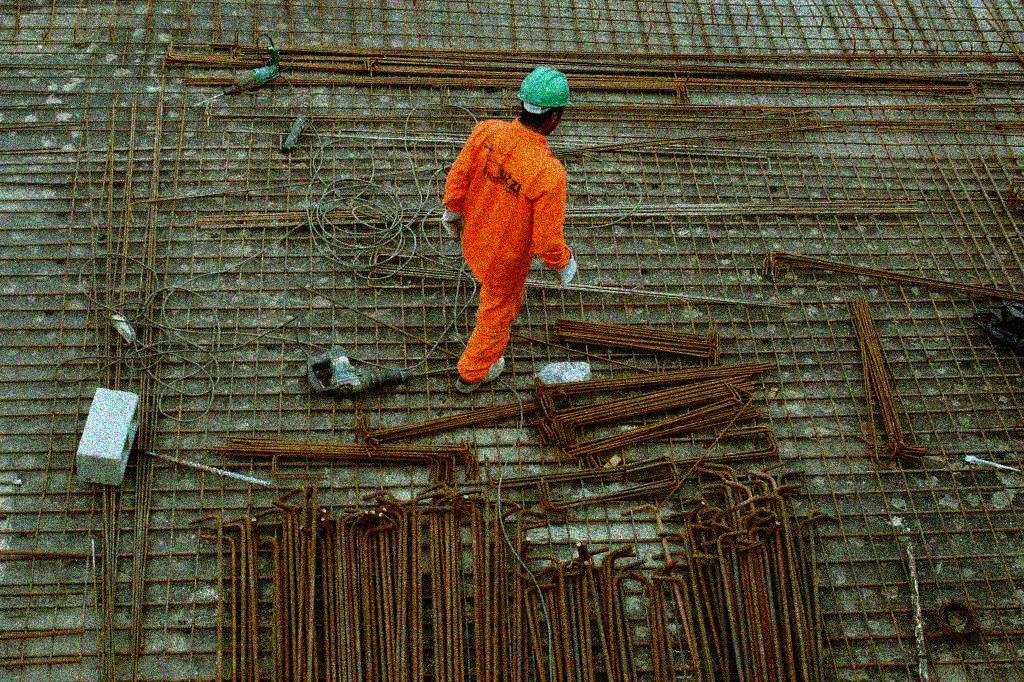helmet: (516, 64, 574, 135)
